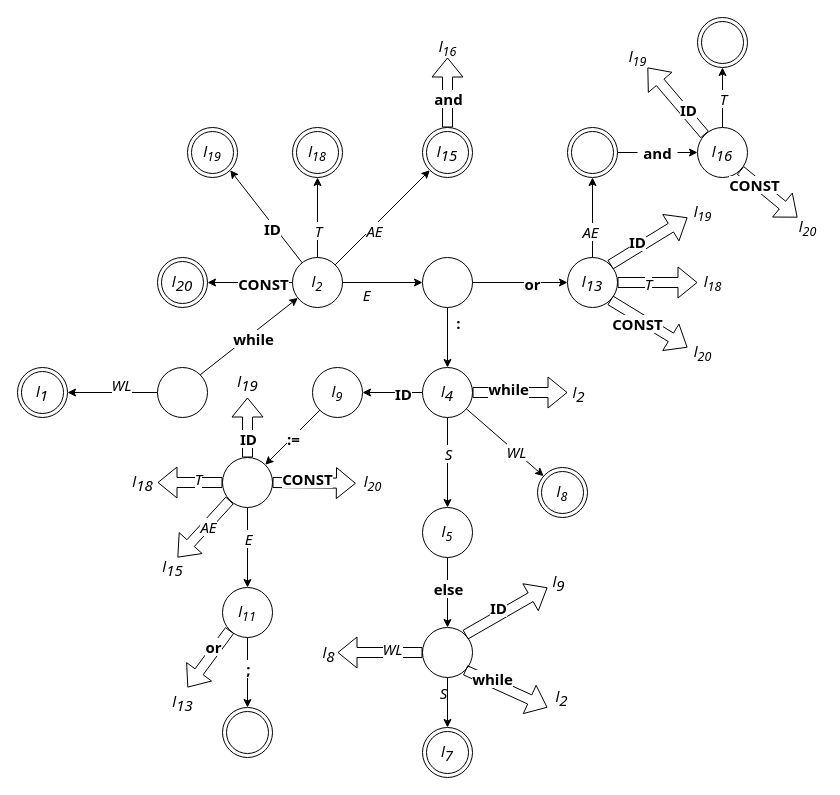
This 840x795 diagram has some shape labels left out. The shapes that lost their labels are listed below. From the top down, each one's centre as x and y in pixels, then its label:
(x=722, y=42): l 17
(x=592, y=152): l 14
(x=447, y=282): l 3
(x=182, y=392): l 0
(x=247, y=482): l 10
(x=447, y=652): l 6
(x=247, y=732): l 12
